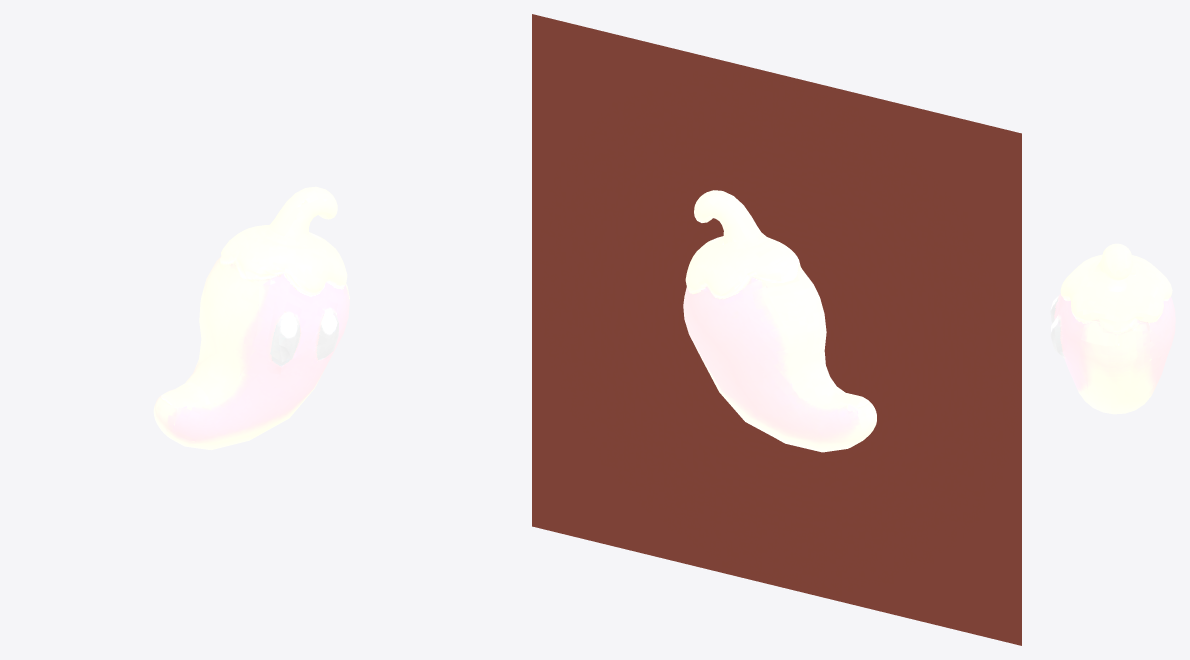
File: pepper-cube.glb
3 views of the same model, side by side, from view 1: azimuth 30°, elevation 25°; view 2: azimuth 150°, elevation 25°; view 3: azimuth 270°, elevation 25° (orthographic). The views are drawn at different scales.
Visible parts, largest first — view 1: pepper cube; view 2: glow, pepper cube; view 3: pepper cube.
Part boxes in pixels (box(x1,y1,x2,y2)): pepper cube: box(153, 186, 349, 450); glow: box(532, 14, 1021, 645); pepper cube: box(683, 190, 876, 452); pepper cube: box(1050, 243, 1175, 414).
Bounding box in the file's own units: 2.18 × 2.18 × 0.5753.
Materials: 2 (2 with a texture image).
